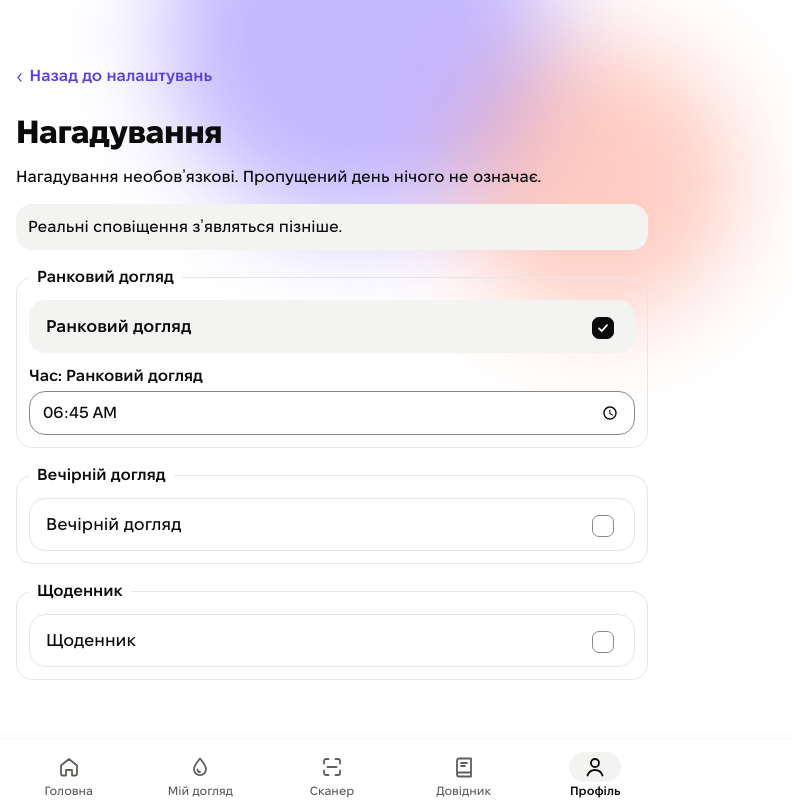
Scenario: reminders: only the interface and what is saved › switching off keeps the chosen time for next time and hides the field
Click the checkbox labelled "Ранковий догляд" at (119, 326), box [29,300,635,353]
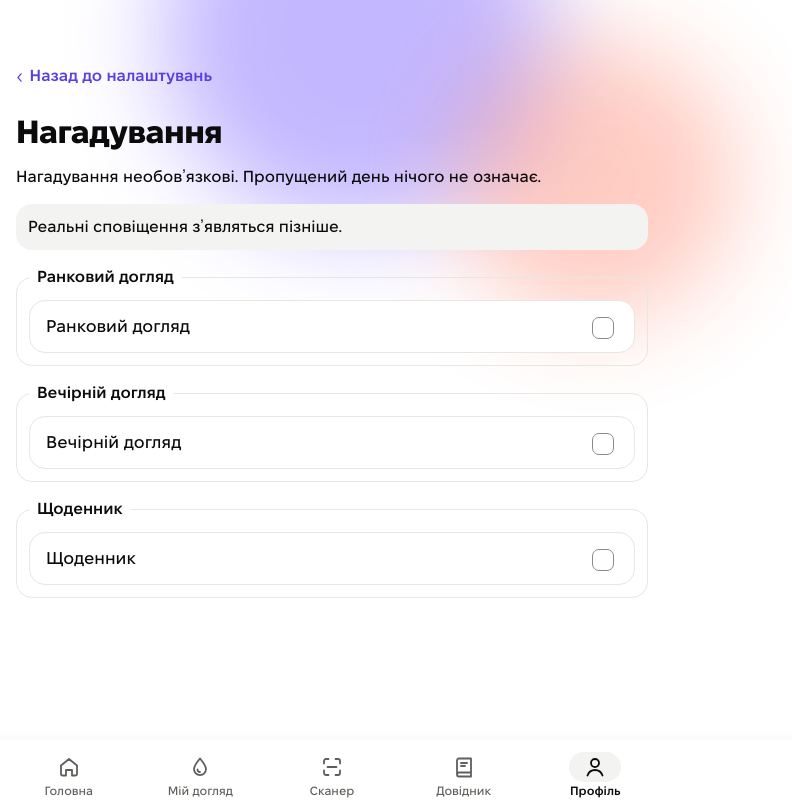
Expected: no time fields are shown
